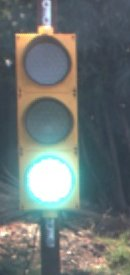Green: (4, 29, 101, 223)
